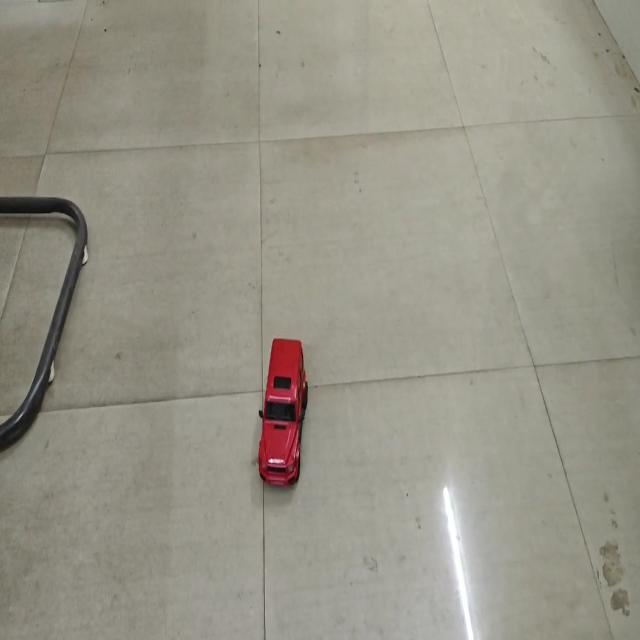light_vehicle: (256, 333, 310, 489)
